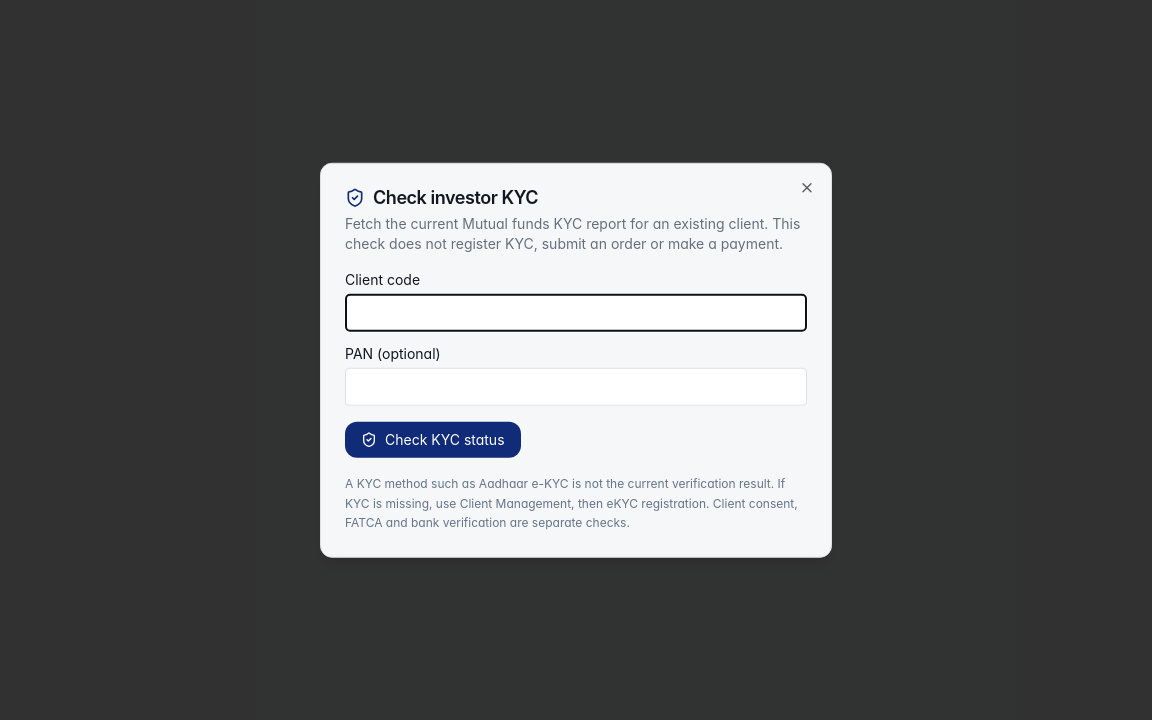
Test: checks KYC without treating a successful report as investment eligibility
Type "TEST001" into the field labelled "Client code" at (576, 313), box [345,294,807,332]
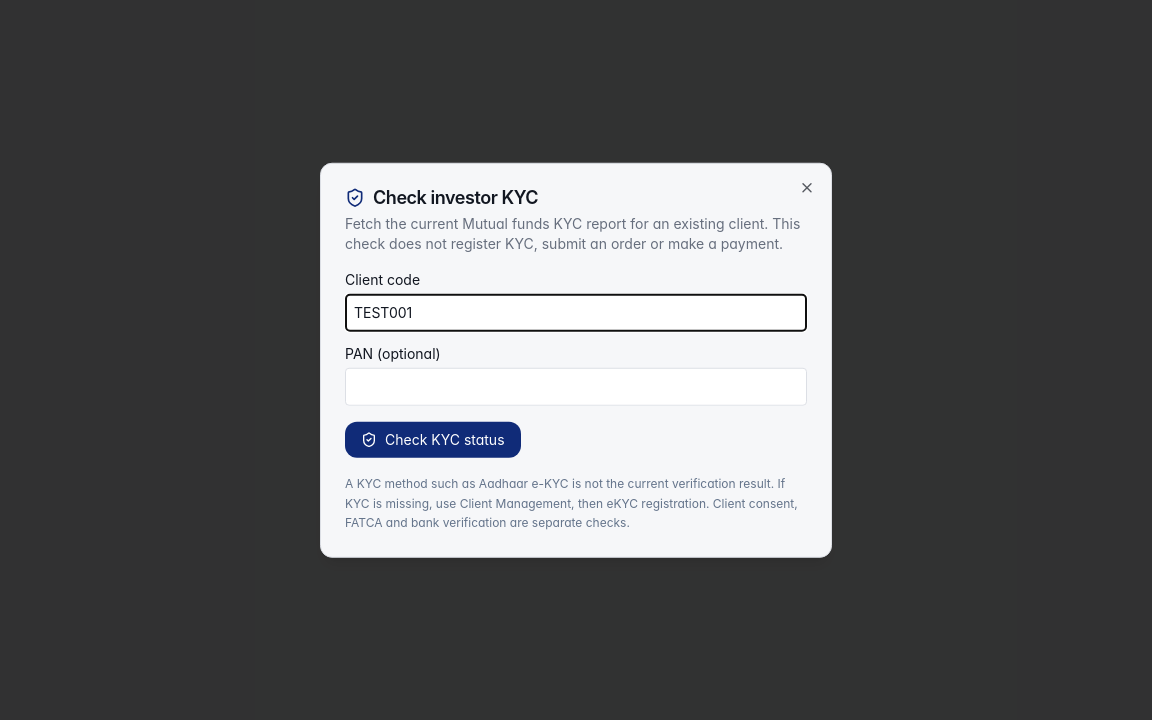
Type "ABCPD1234F" into the field labelled "PAN (optional)" at (576, 387), box [345,368,807,406]
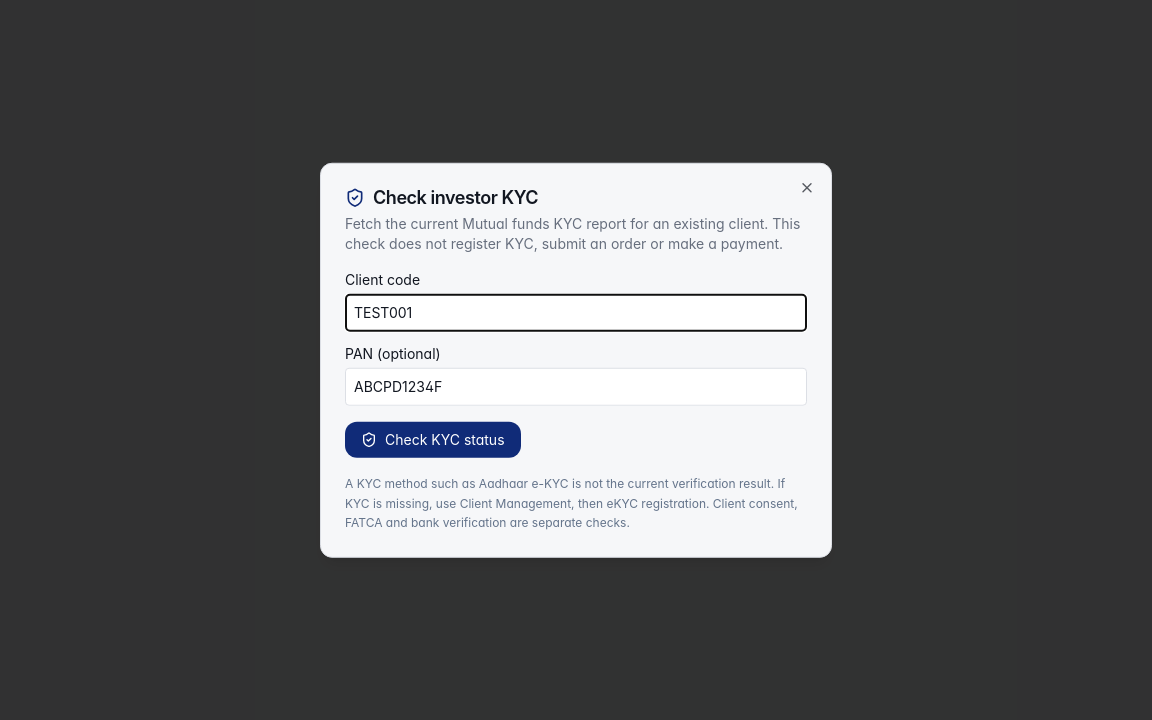
Click the button "Check KYC status" at (433, 440), box [345,422,520,458]
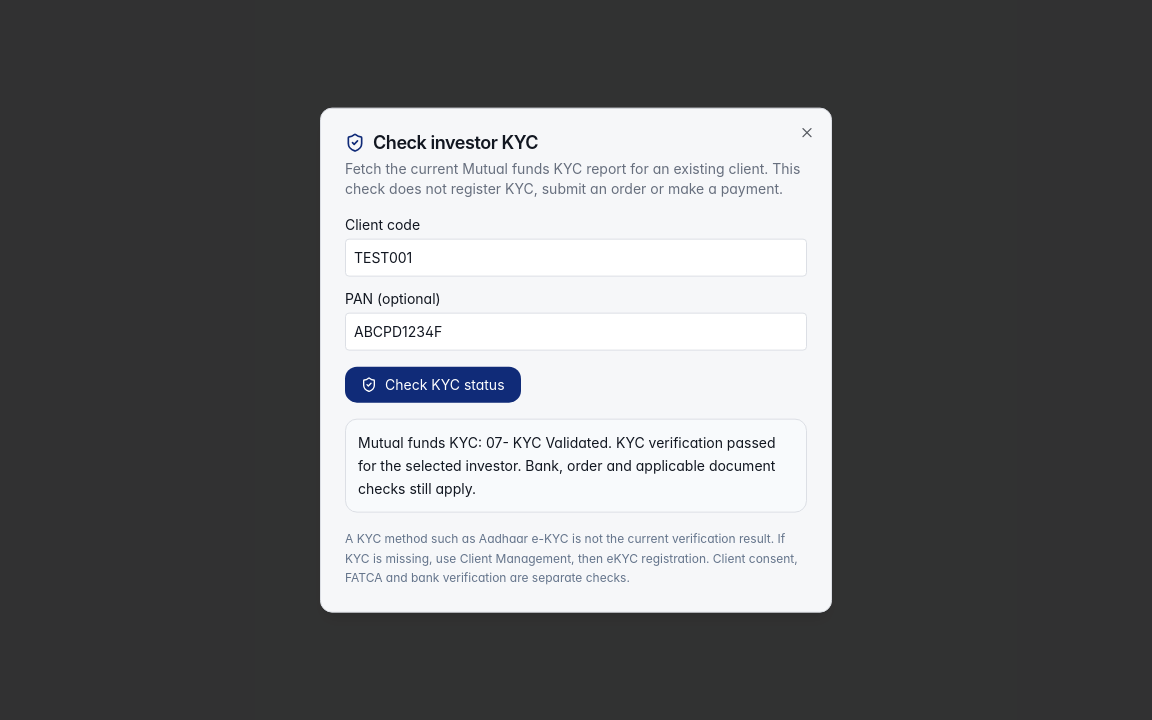
Now the message shows "07- KYC Validated", box [358,434,776,496]
Now the message shows "KYC verification passed", box [358,434,776,496]
